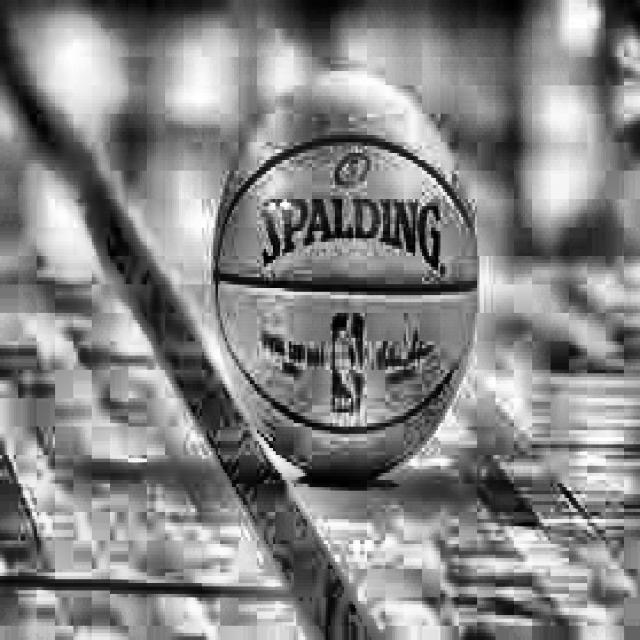Basketball: (216, 75, 479, 480)
